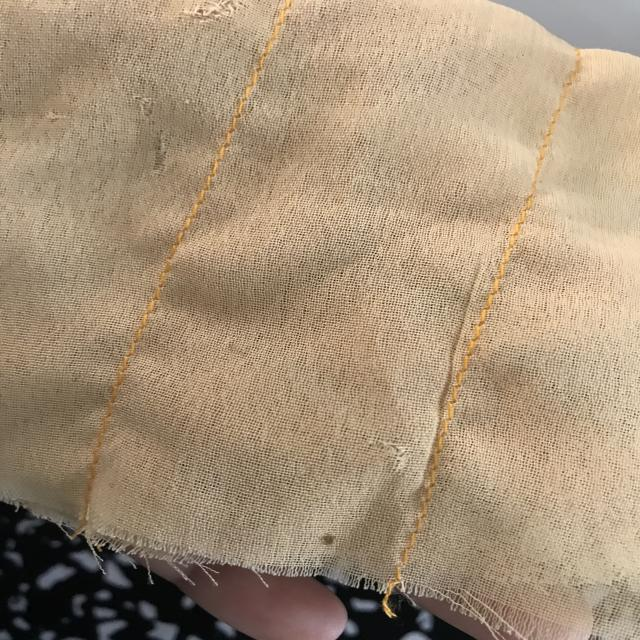good: (200, 136, 237, 207)
